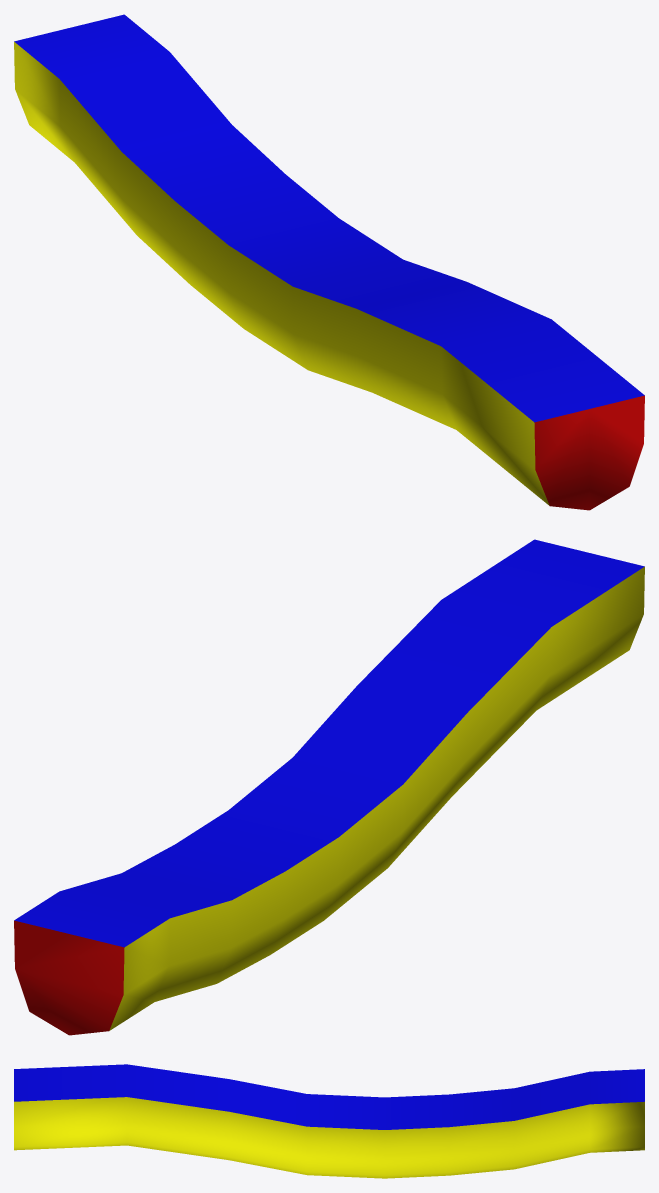
The picture shows the model from 3 angles, top to bottom: view 1: azimuth 30°, elevation 25°; view 2: azimuth 150°, elevation 25°; view 3: azimuth 270°, elevation 25°; orthographic projection. The views are drawn at different scales.
Parts seen in each view (by area): view 1: polySurface102; view 2: polySurface102; view 3: polySurface102.
Part boxes in pixels (x1,y1,x2,y2): polySurface102: (14,14,644,510); polySurface102: (14,539,644,1035); polySurface102: (14,1064,644,1178).
Bounding box in the file's own units: 23.58 × 31.83 × 192.
